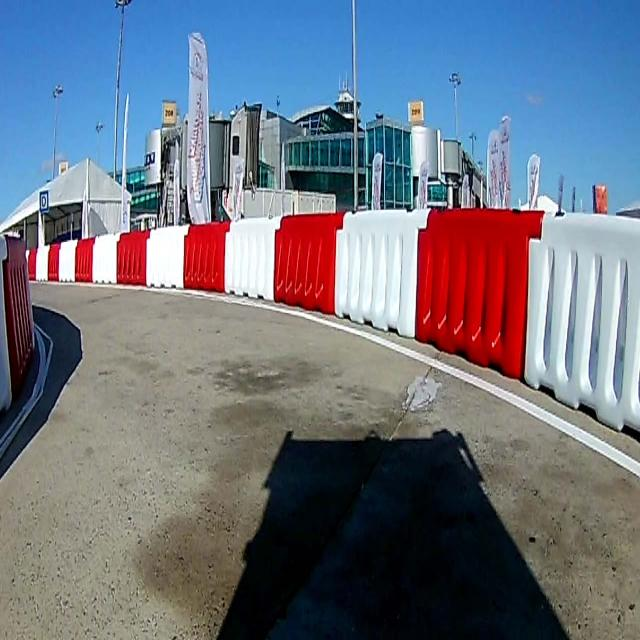durak: (39, 187, 49, 209)
